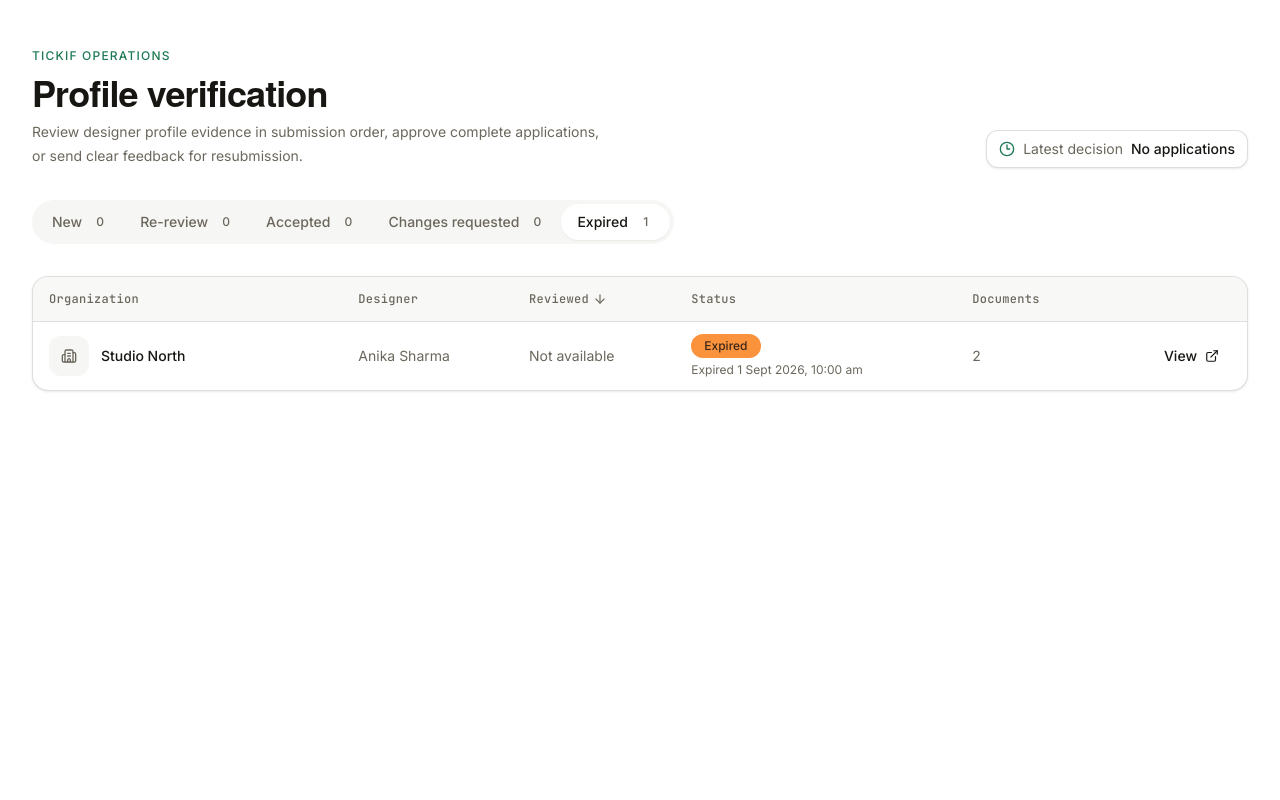
Scenario: AdminVerificationQueue › opens expired approvals read-only with renewal guidance and their expiry date
Click the button with aria-label "Open verification for Studio North".
click(1191, 356)  # box [1152,338,1231,374]
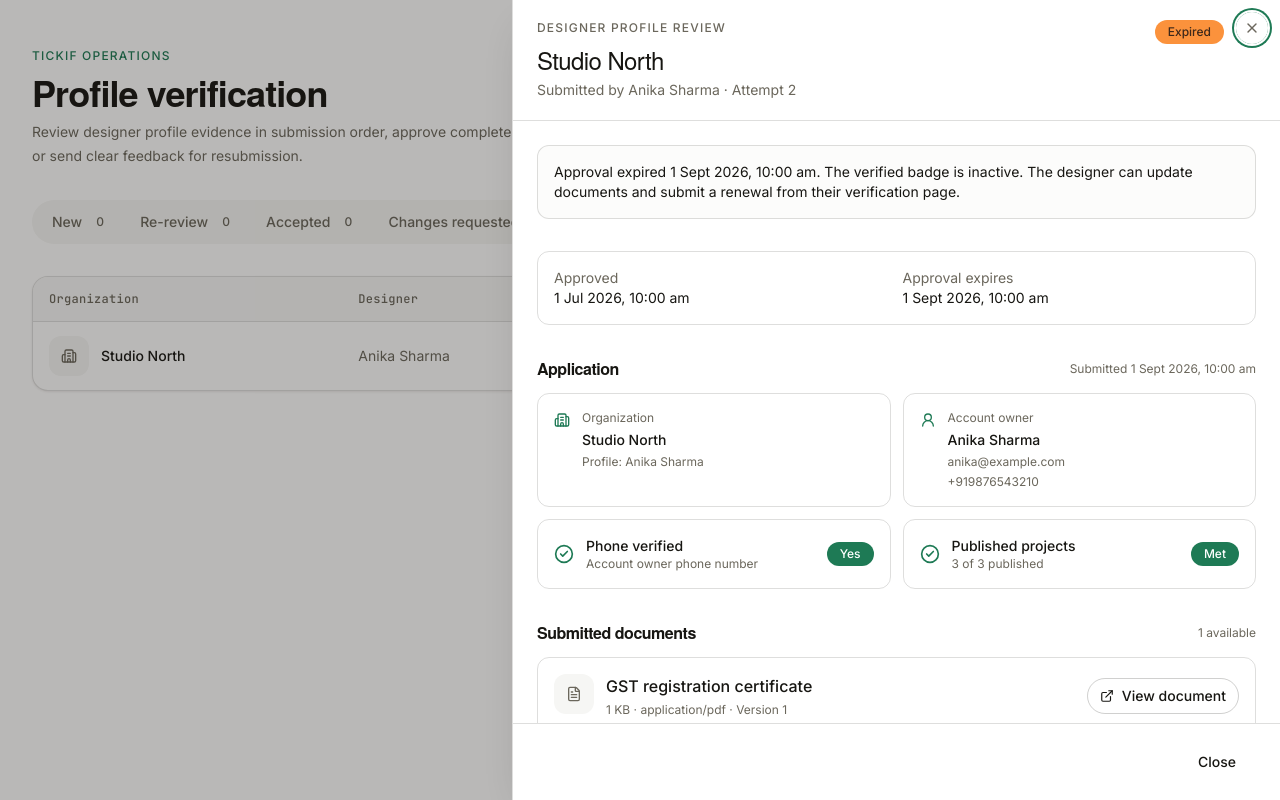
Result: the text "The verified badge is inactive" is shown at [554,163,1193,200]
Result: the text "Approval expires" is shown at [902,269,1014,286]
